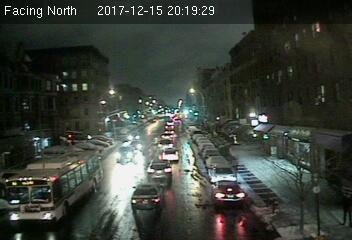bus: (7, 150, 105, 223)
car: (127, 182, 165, 210), (210, 181, 244, 205), (146, 158, 171, 181), (207, 163, 236, 181), (113, 145, 136, 163), (161, 148, 180, 161)
